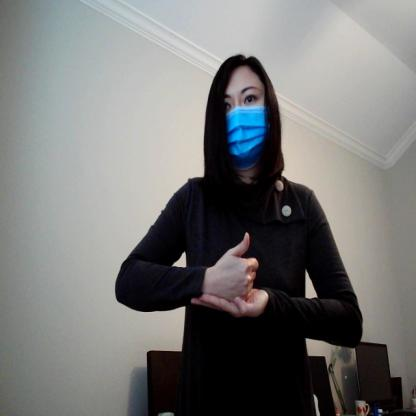help: (192, 224, 276, 325)
